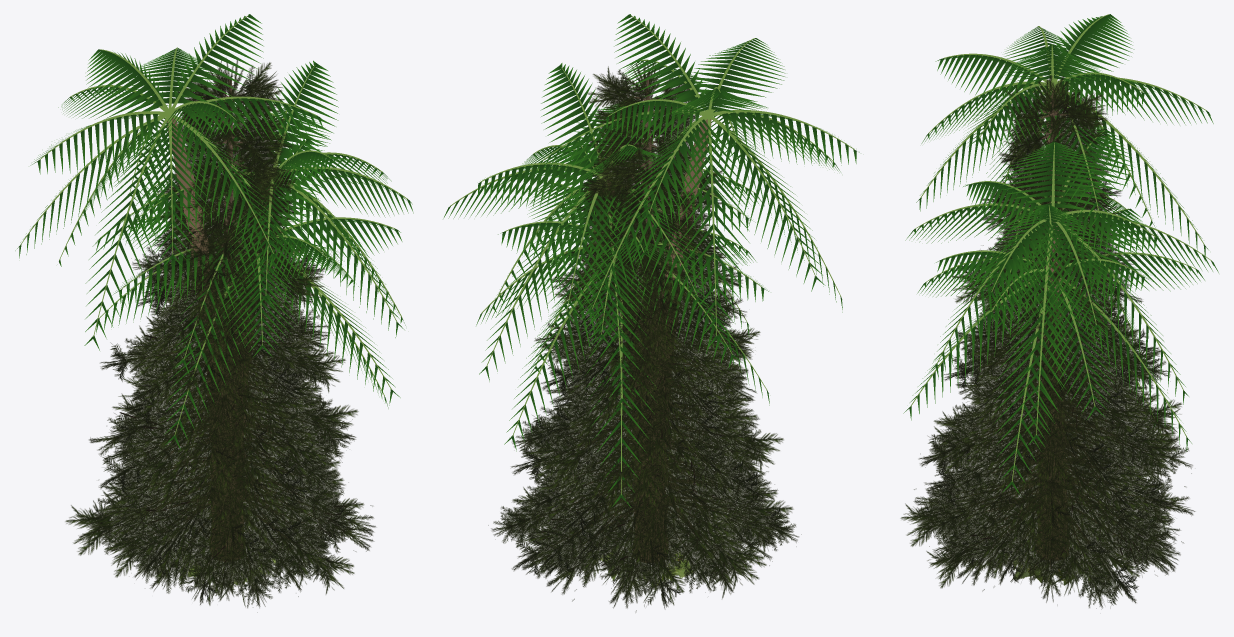
File: plants.glb
3 renders of one model, left to right at view 1: azimuth 30°, elevation 25°; view 2: azimuth 150°, elevation 25°; view 3: azimuth 270°, elevation 25°, orthographic. The views are drawn at different scales.
Parts seen in each view (by area): view 1: conifer_c, conifer_a, palm_b, palm_a, palm_c, conifer_b; view 2: conifer_c, conifer_a, palm_b, palm_a, palm_c, conifer_b; view 3: conifer_c, conifer_a, palm_a, palm_b, palm_c, conifer_b.
Boxes of the visible parts, <box> form: conifer_c: <box>65,60,374,612</box>; conifer_a: <box>78,140,375,600</box>; palm_b: <box>15,14,323,550</box>; palm_a: <box>96,60,413,551</box>; palm_c: <box>96,137,402,560</box>; conifer_b: <box>107,224,348,606</box>; conifer_c: <box>488,60,801,609</box>; conifer_a: <box>512,146,777,612</box>; palm_b: <box>535,14,859,550</box>; palm_a: <box>443,63,761,553</box>; palm_c: <box>476,136,769,562</box>; conifer_b: <box>527,231,777,584</box>; conifer_c: <box>900,75,1195,608</box>; conifer_a: <box>921,166,1183,597</box>; palm_a: <box>905,130,1218,551</box>; palm_b: <box>916,14,1213,548</box>; palm_c: <box>903,204,1204,560</box>; conifer_b: <box>940,272,1160,588</box>.
Size of the model in its own units: 9.38 by 12.86 by 7.03.
Materials: 4 (3 with a texture image).
